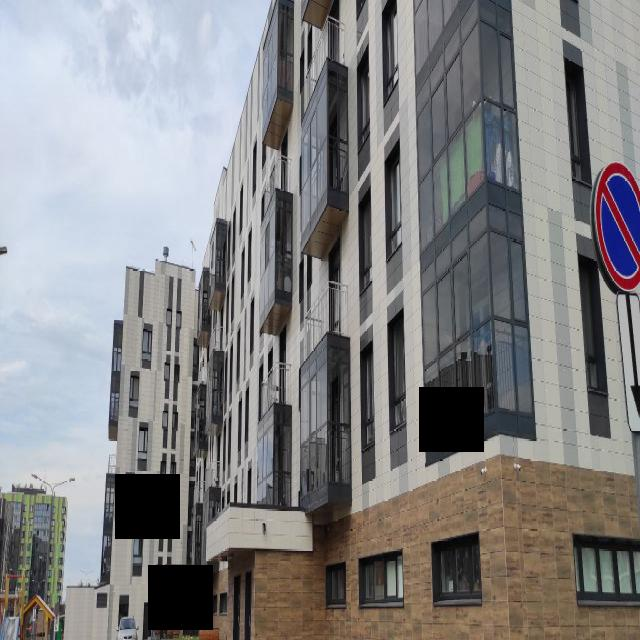Building: (65, 0, 640, 640)
